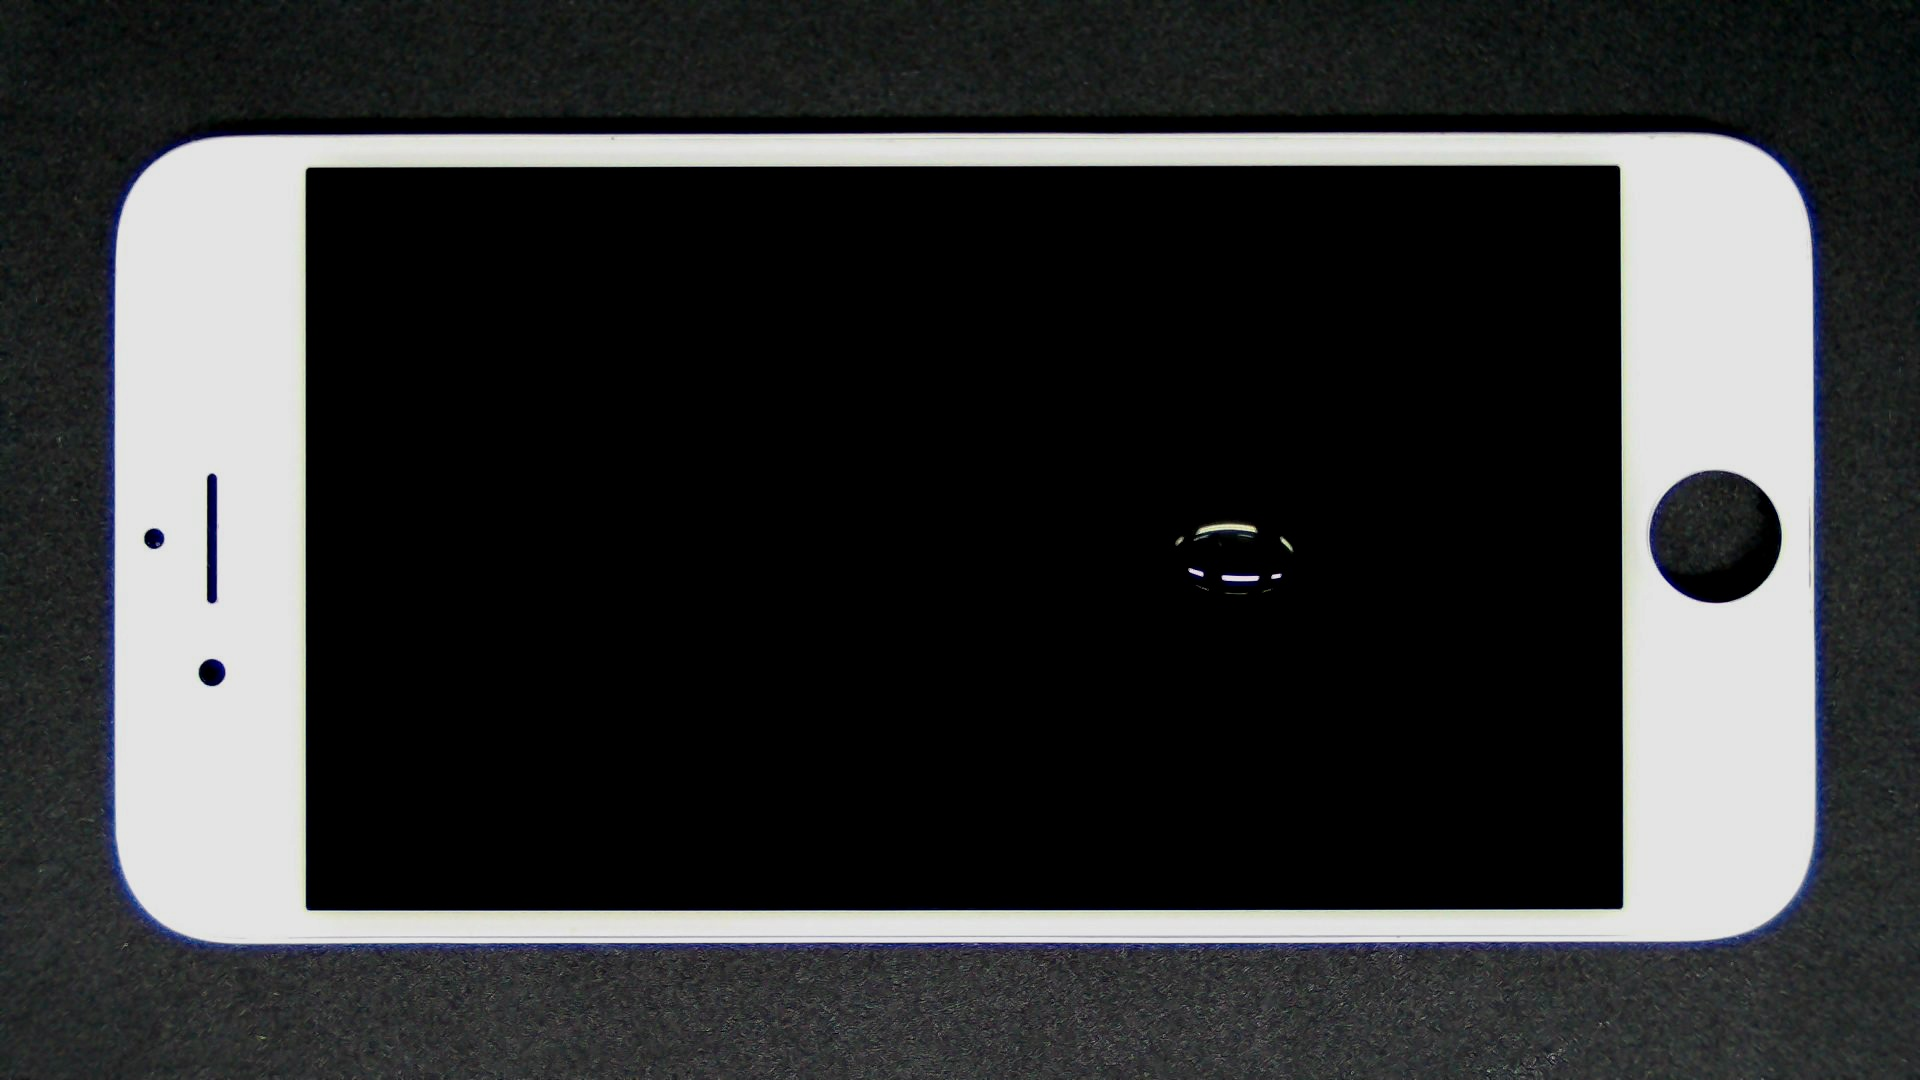oil: (621, 255, 1862, 766)
